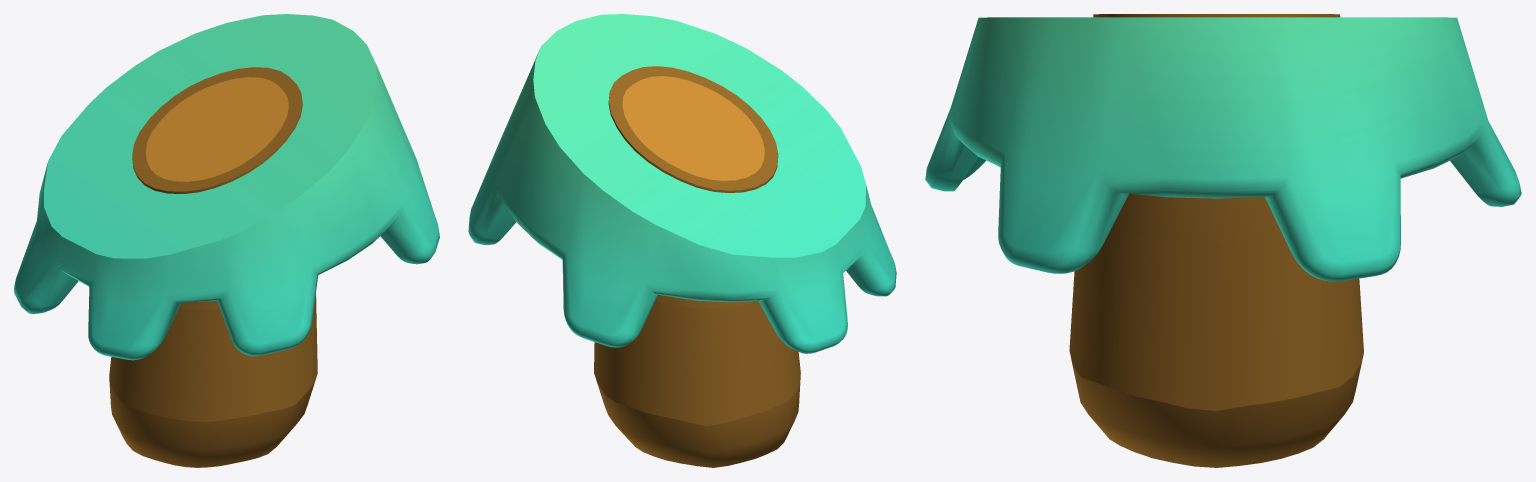
The model's file is tree3 40%.fbx.
The picture shows the model from 3 angles, left to right: view 1: azimuth 30°, elevation 25°; view 2: azimuth 150°, elevation 25°; view 3: azimuth 270°, elevation 25°; orthographic projection. The views are drawn at different scales.
Visible parts, largest first — view 1: Cylinder.029; view 2: Cylinder.029; view 3: Cylinder.029.
Boxes of the visible parts, left/top/right/bottom form: Cylinder.029: left=14, top=14, right=439, bottom=467; Cylinder.029: left=468, top=14, right=896, bottom=467; Cylinder.029: left=925, top=14, right=1521, bottom=467.
Bounding box in the file's own units: 81.72 × 82.82 × 85.92.
